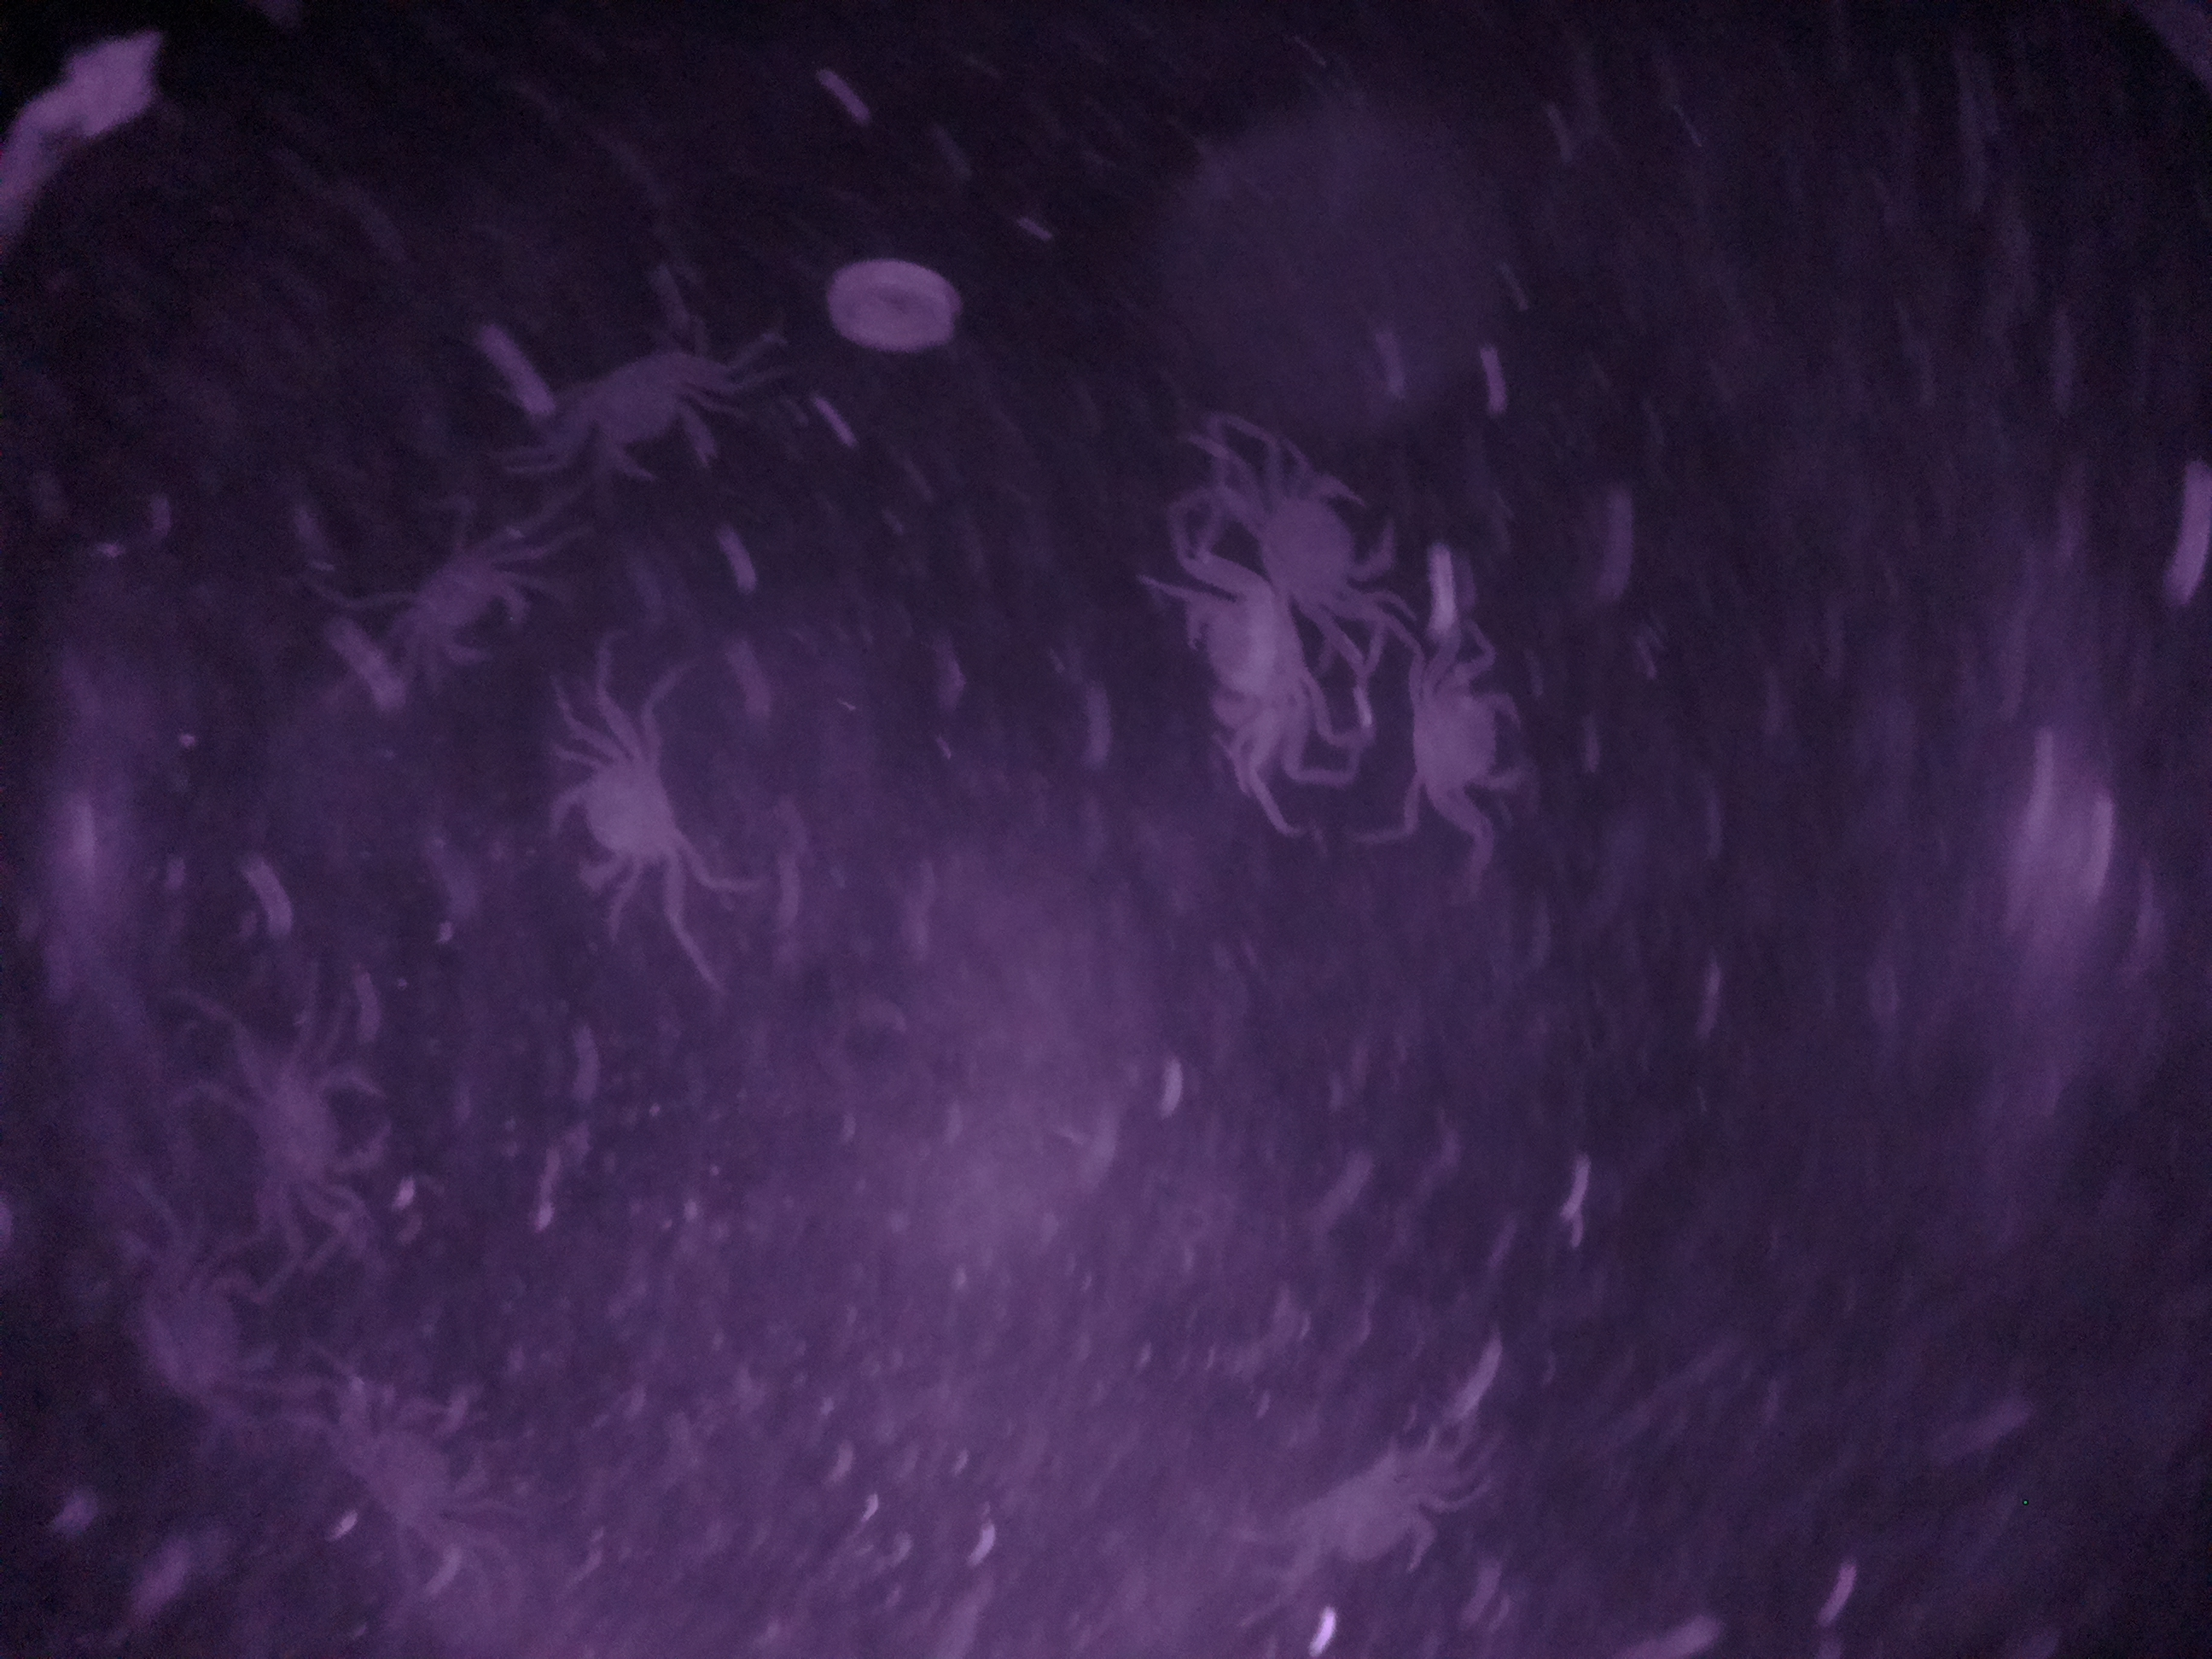Crab: (540, 714, 744, 915), (1221, 430, 1409, 641), (1367, 652, 1564, 840)
